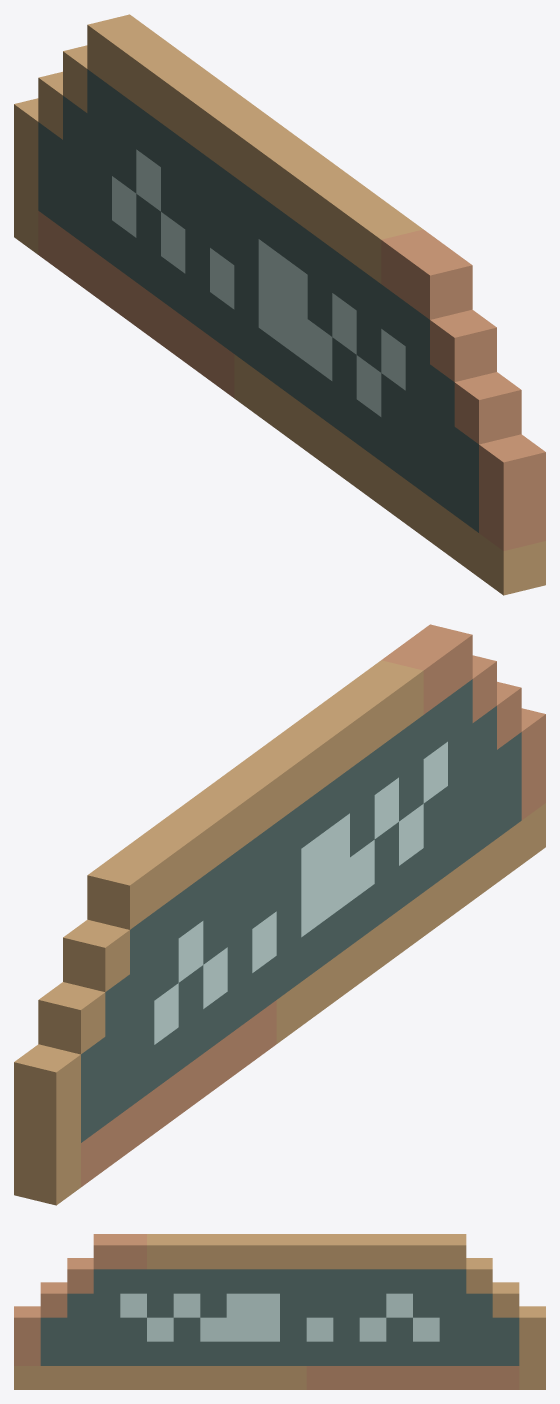
Rendered from Corner Cafe-1.obj.
3 renders of one model, top to bottom at view 1: azimuth 30°, elevation 25°; view 2: azimuth 150°, elevation 25°; view 3: azimuth 270°, elevation 25°, orthographic. The views are drawn at different scales.
Size of the model in its own units: 0.1 by 0.6 by 2.
Materials: 1 (1 with a texture image).
